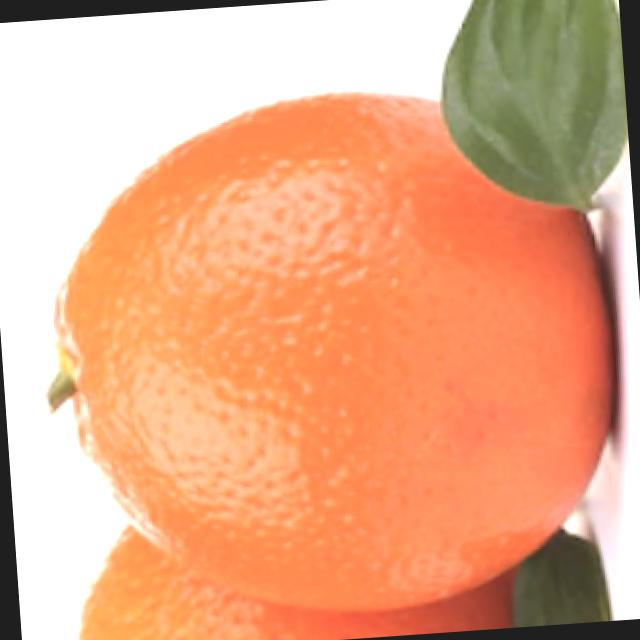orange: (16, 47, 628, 628)
